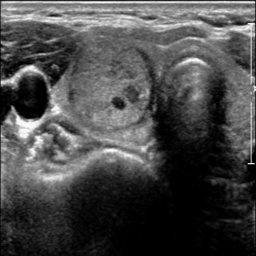mass: (71, 42, 151, 126)
